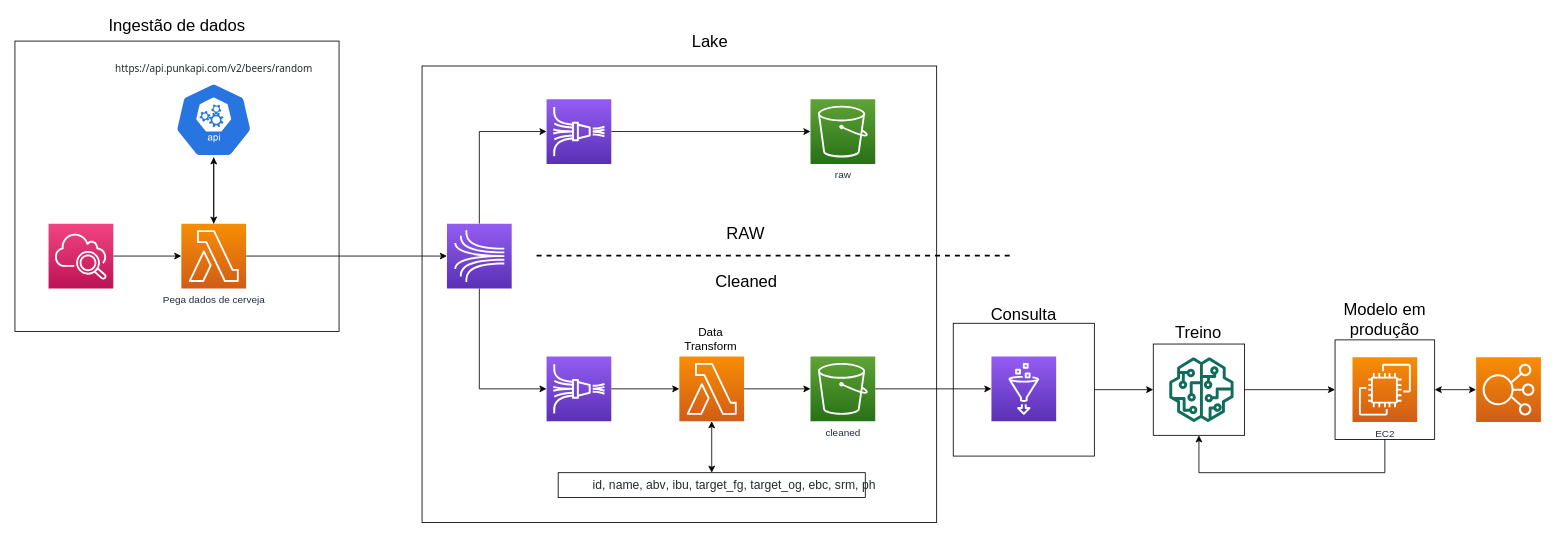
Some shapes in this 1555 by 537 pixel diagram are drawn without their labels. The shapes that lost their labels are listed below. From the top down, each one's centre as x and y in pixels, then its label:
the point at 80,255: Triga a cada 5min
the point at 1508,389: ELB
